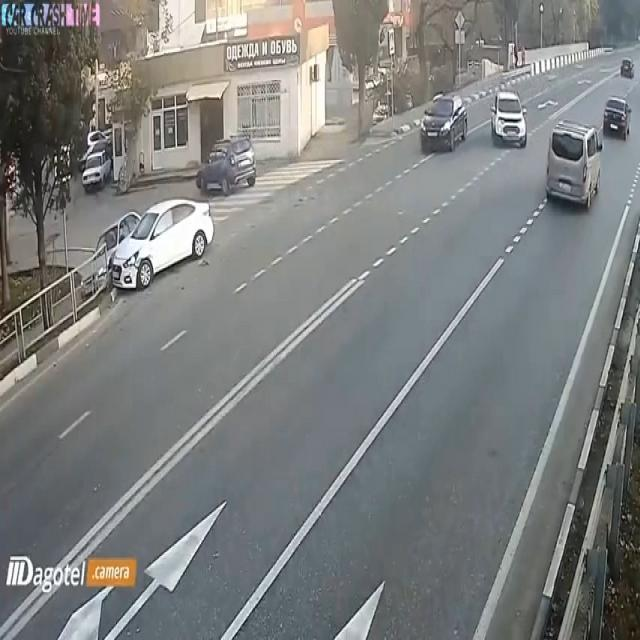Accident: (100, 189, 210, 295)
